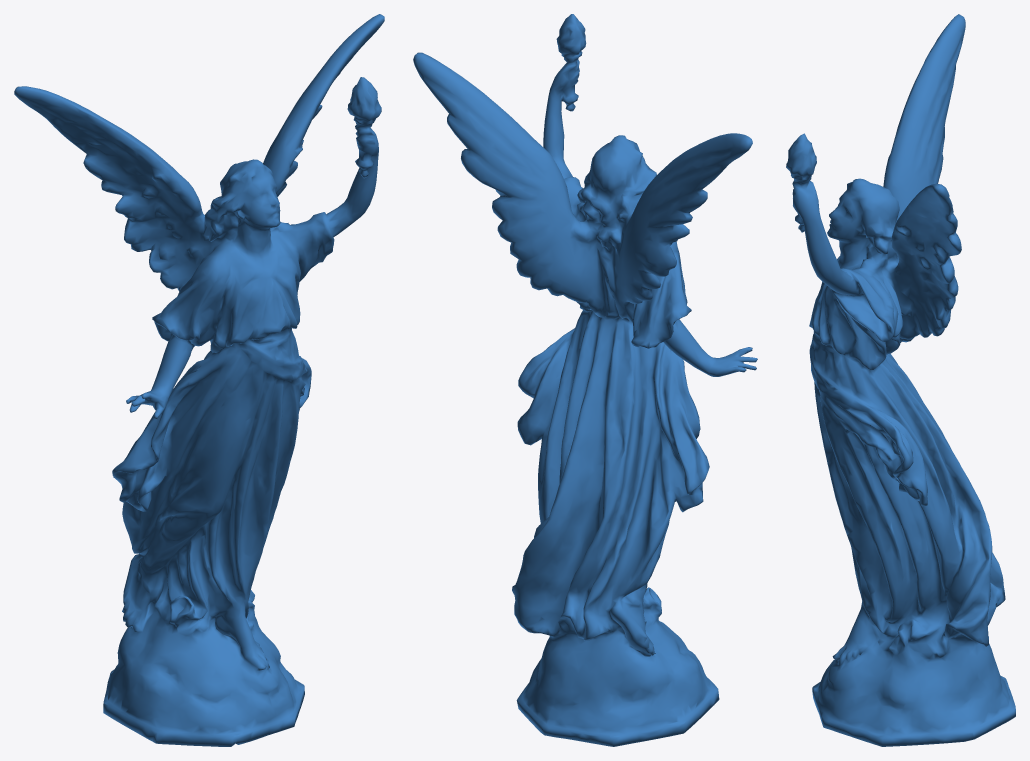
Rendered from lucy25KN.obj.
The picture shows the model from 3 angles, left to right: view 1: azimuth 30°, elevation 25°; view 2: azimuth 150°, elevation 25°; view 3: azimuth 270°, elevation 25°; orthographic projection. The views are drawn at different scales.
Bounding box in the file's own units: 931 × 1591 × 534.
